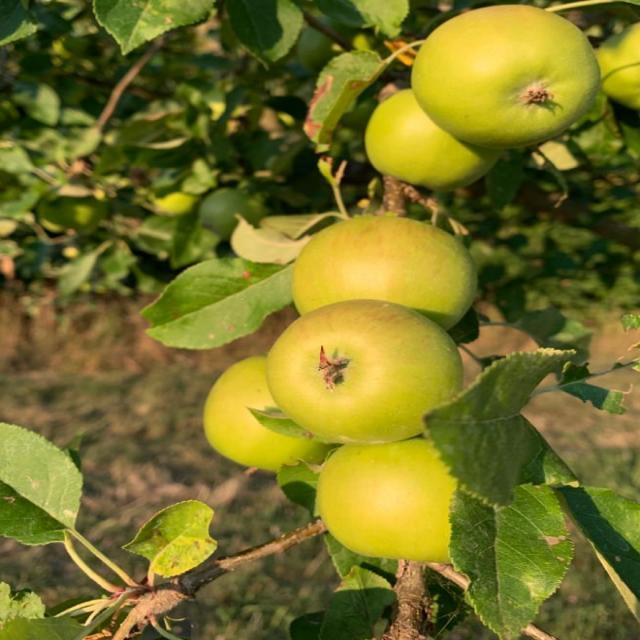Green Apple: (408, 7, 608, 138), (274, 298, 450, 436), (310, 434, 469, 560), (304, 215, 466, 338), (204, 361, 336, 481), (369, 70, 476, 180), (591, 5, 640, 101)
